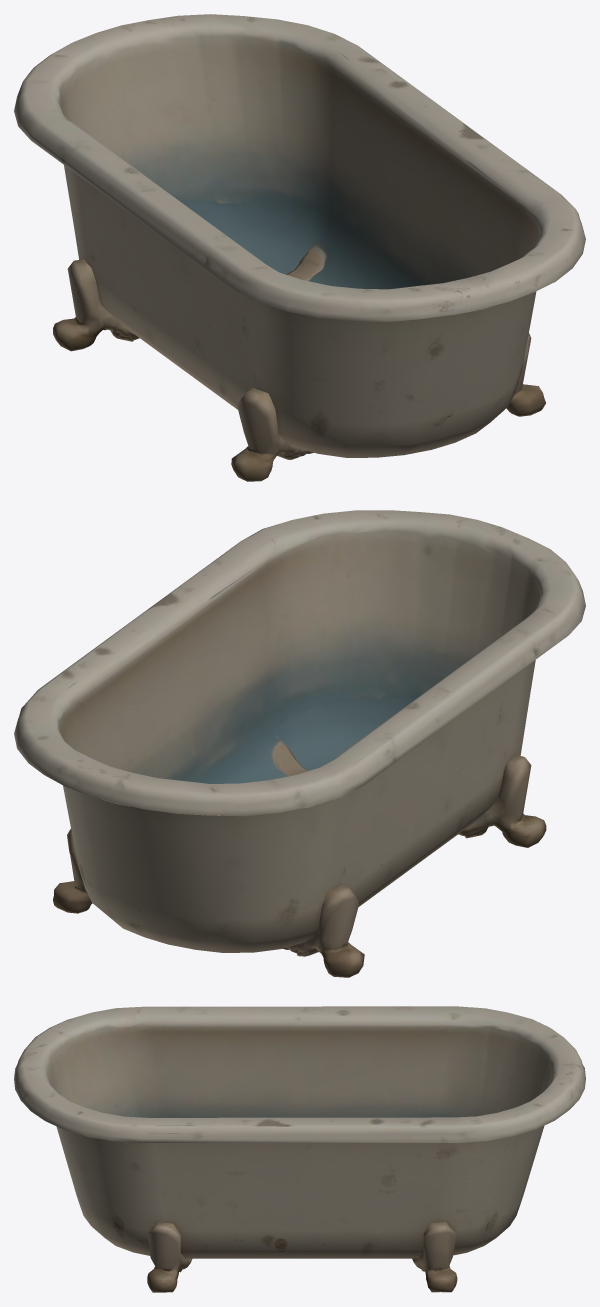
Rendered from bathtub.glb.
3 renders of one model, top to bottom at view 1: azimuth 30°, elevation 25°; view 2: azimuth 150°, elevation 25°; view 3: azimuth 270°, elevation 25°, orthographic. The views are drawn at different scales.
Visible parts, largest first — view 1: tripo_node_7e285a7d-8f7f-484d-9cb9-dcf6b057f672; view 2: tripo_node_7e285a7d-8f7f-484d-9cb9-dcf6b057f672; view 3: tripo_node_7e285a7d-8f7f-484d-9cb9-dcf6b057f672.
Boxes of the visible parts, bbox=[...] form: tripo_node_7e285a7d-8f7f-484d-9cb9-dcf6b057f672: bbox=[14, 14, 585, 481]; tripo_node_7e285a7d-8f7f-484d-9cb9-dcf6b057f672: bbox=[14, 510, 585, 977]; tripo_node_7e285a7d-8f7f-484d-9cb9-dcf6b057f672: bbox=[14, 1006, 585, 1292].
Bounding box in the file's own units: 0.5215 × 0.334 × 0.998.
Materials: 1 (1 with a texture image).
